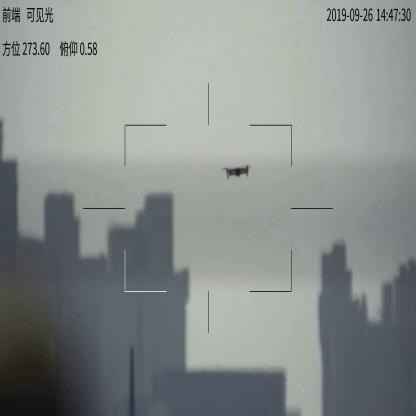uav: (210, 162, 246, 181)
